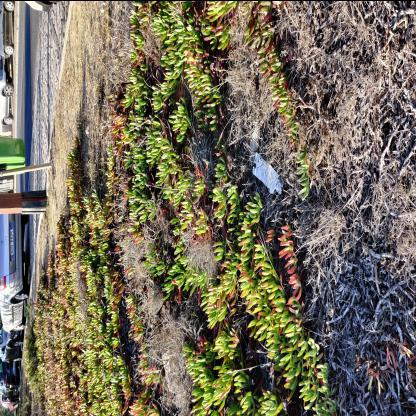kagit: (254, 152, 284, 196)
